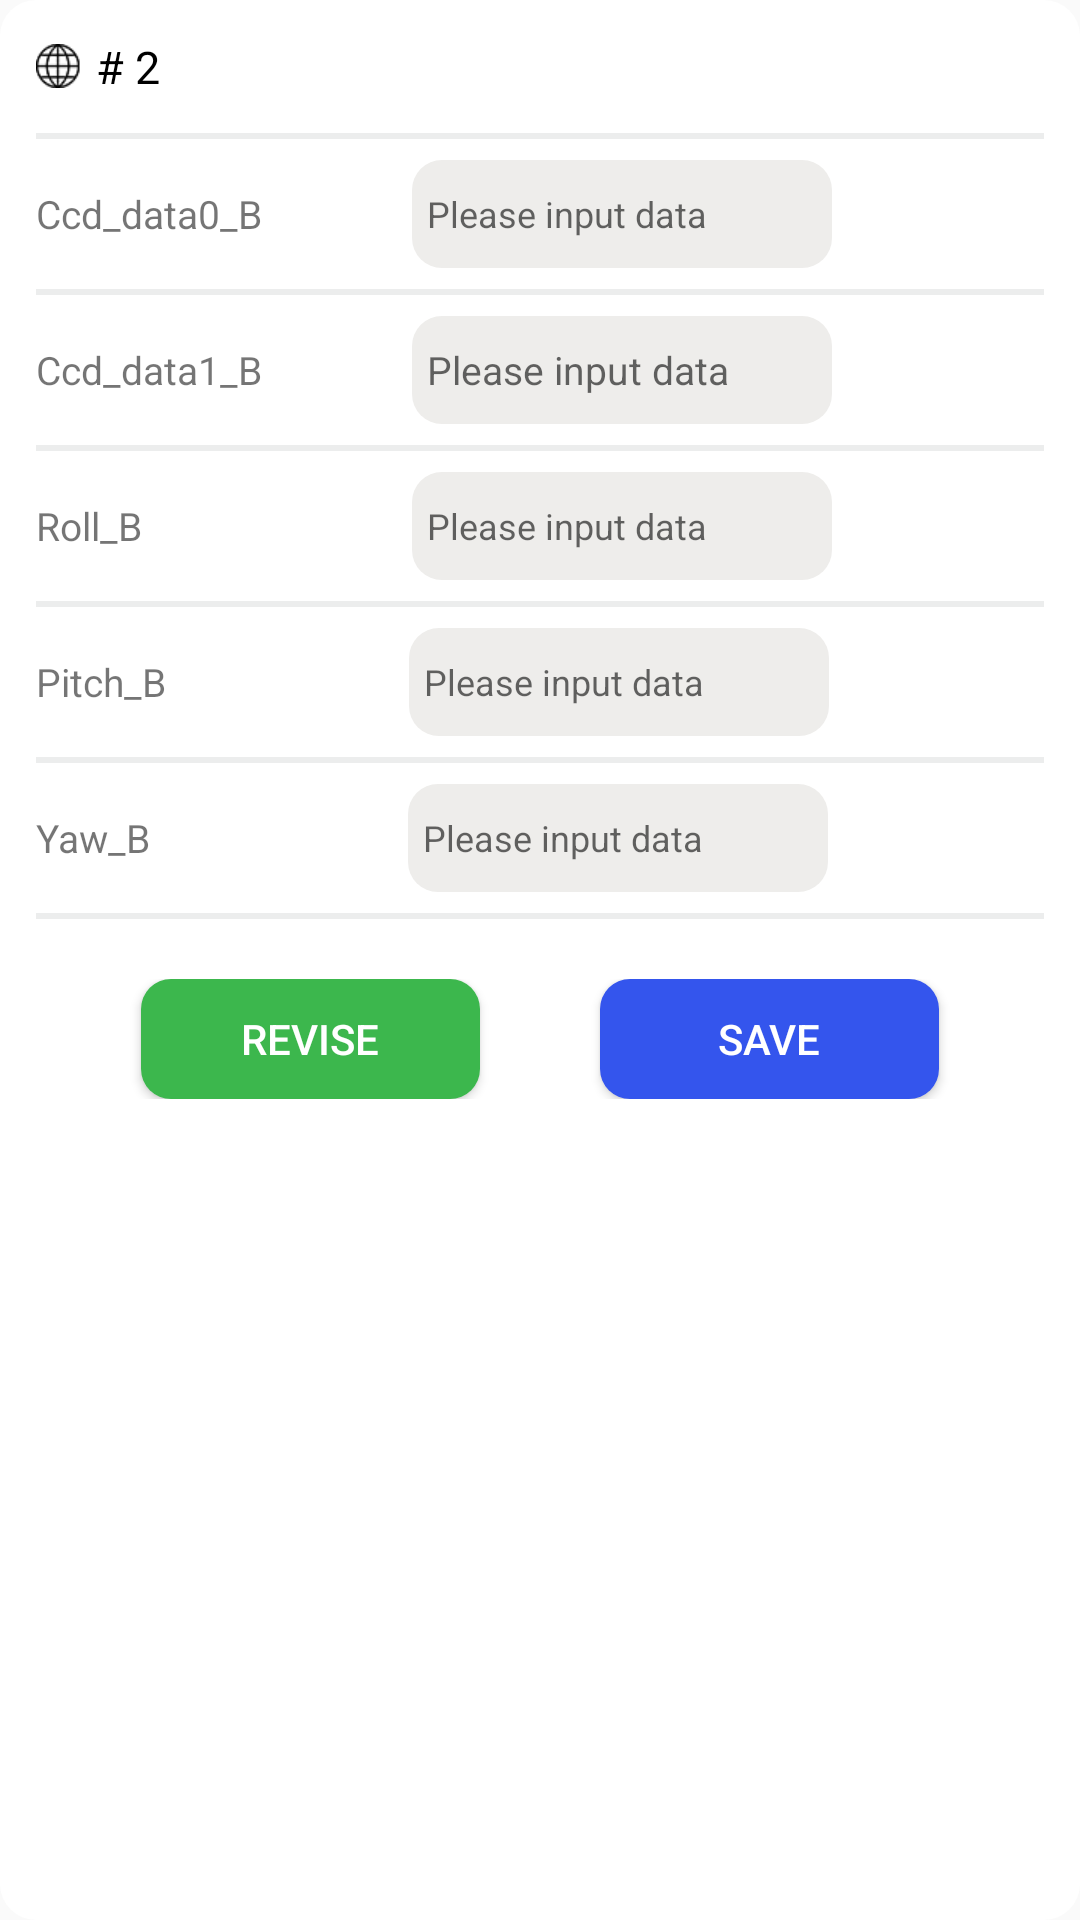

Named icons in this screenshot (1080*1920) and their bounding boxes, (left=x1, top=y1, right=x2, bottom=y2):
qiu: (left=36, top=44, right=80, bottom=88)
